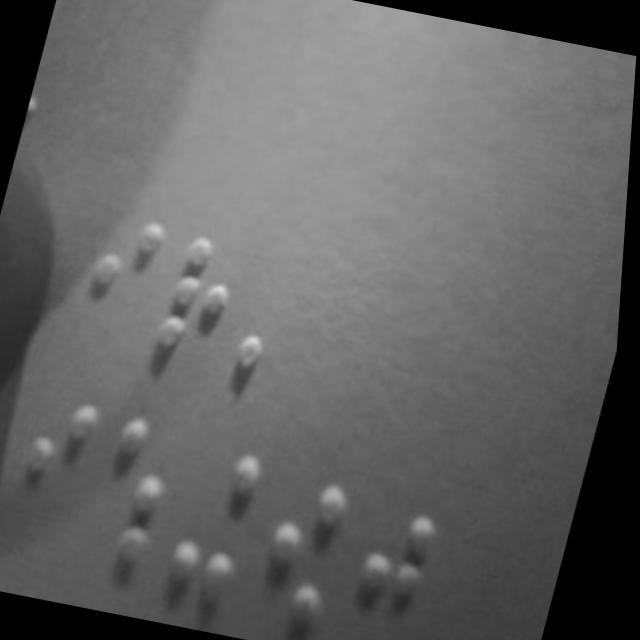braiile: (160, 440, 280, 616), (76, 408, 192, 588), (0, 390, 114, 573), (253, 472, 368, 640), (137, 221, 253, 382), (343, 496, 462, 640), (66, 203, 173, 360)
